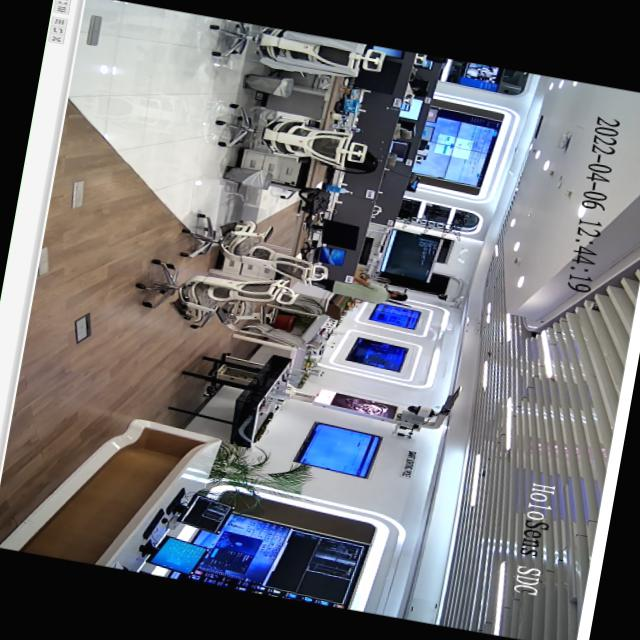long weapon: (382, 296, 418, 310)
